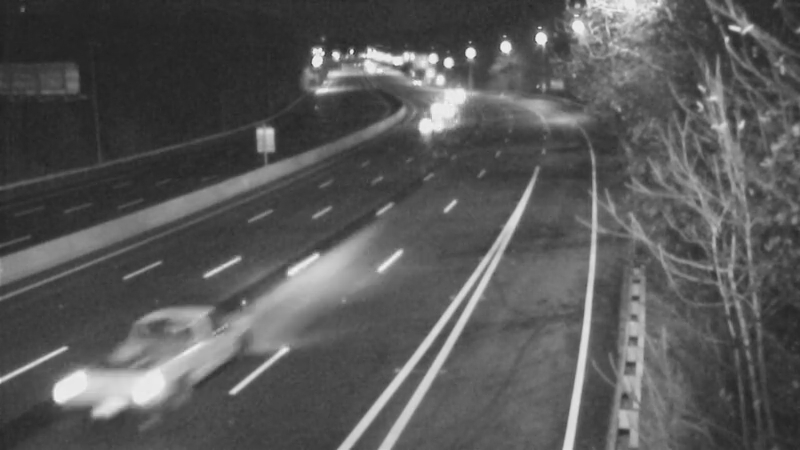vehicle: (81, 323, 191, 433), (391, 58, 441, 108), (427, 67, 477, 117), (414, 84, 464, 134), (408, 109, 458, 159)
